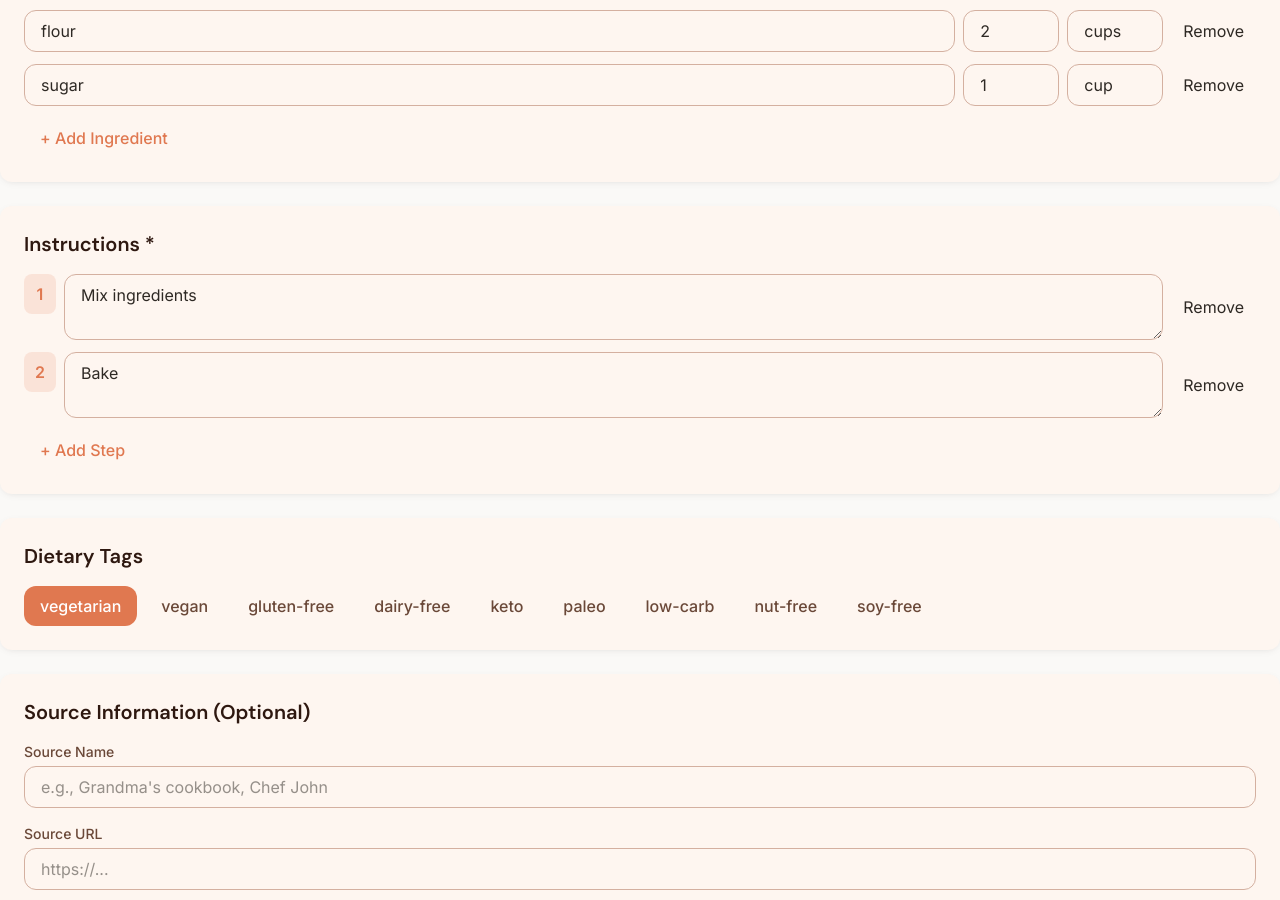
Test: RecipeForm › Instructions Management › should renumber steps when instruction removed
(page scrolled)
// Add a third instruction
Click the button "+ Add Step". click: click(83, 450)
box: [24,430,141,470]
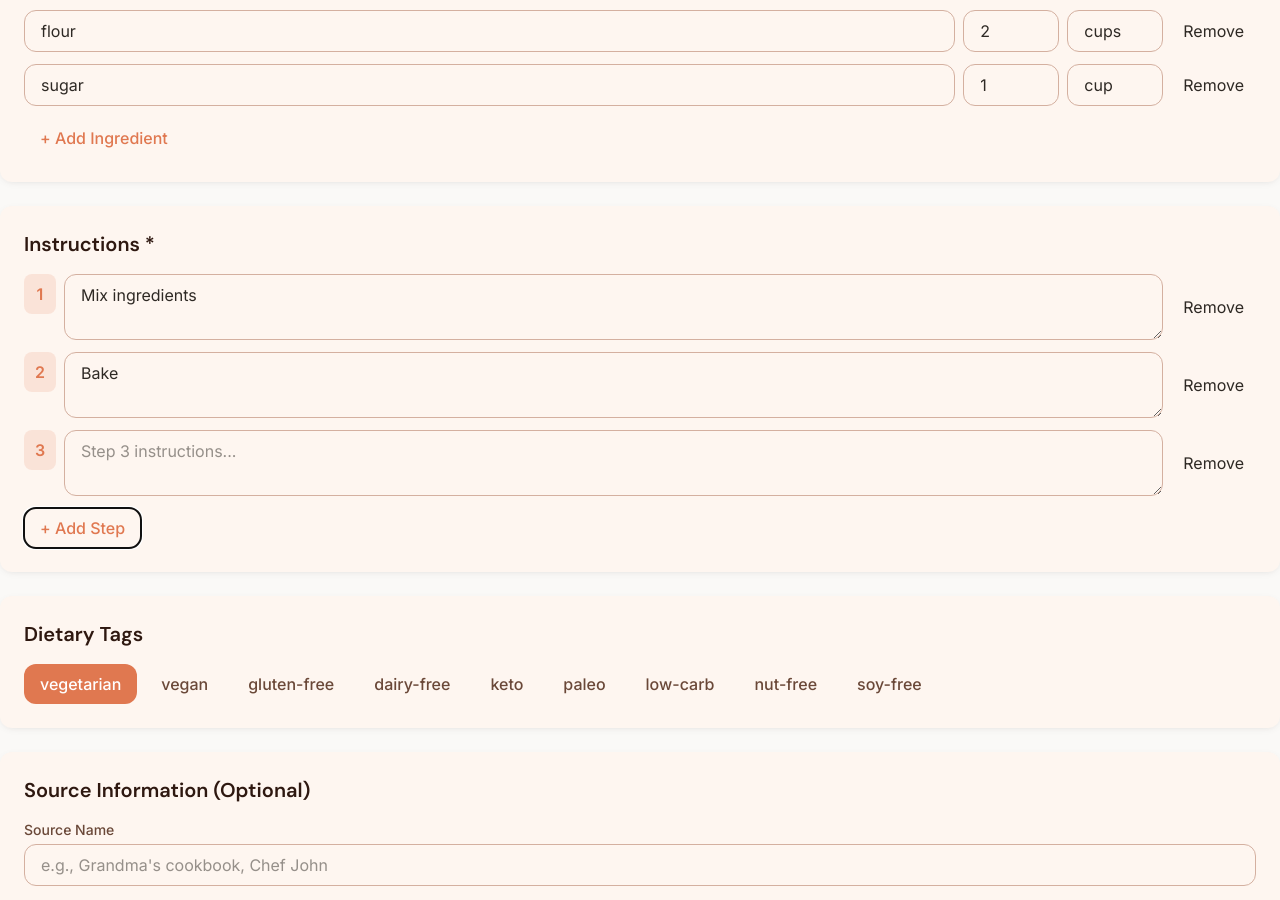
Expected: the text "1" is shown, [24,274,56,314]
Expected: the text "3" is shown, [24,430,56,470]
// Second to last remove button (middle instruction)
Click the 4th button "Remove". click: click(1214, 385)
box: [1171,352,1256,418]
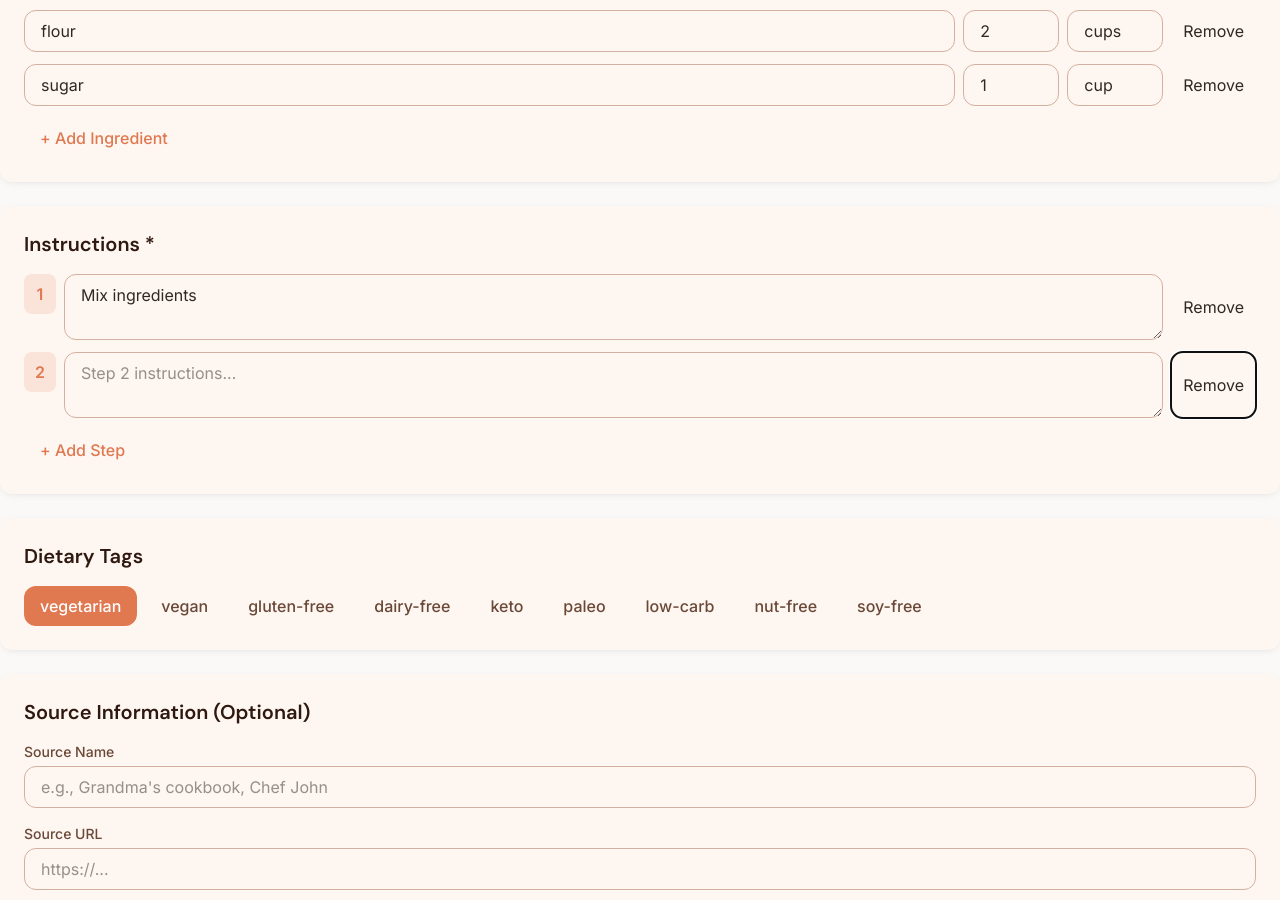
Expected: the text "1" is shown, [24,274,56,314]
Expected: the text "3" is gone
